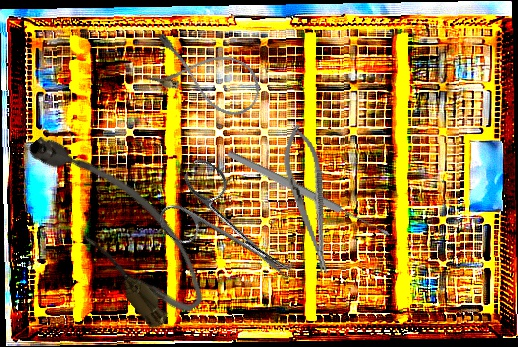Cannula: (15, 107, 220, 338), (142, 29, 268, 123)
Iris Scissors: (150, 154, 315, 307)
Needle Holder: (276, 121, 342, 278)
Surgical Spoon: (224, 148, 393, 240)
